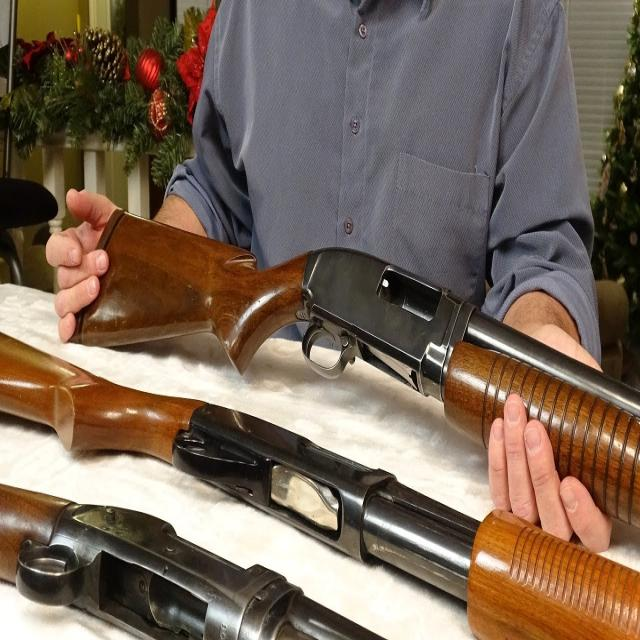ShotGun: (0, 332, 640, 640), (70, 212, 640, 518)
